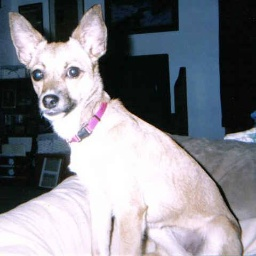dog: (8, 6, 244, 256)
